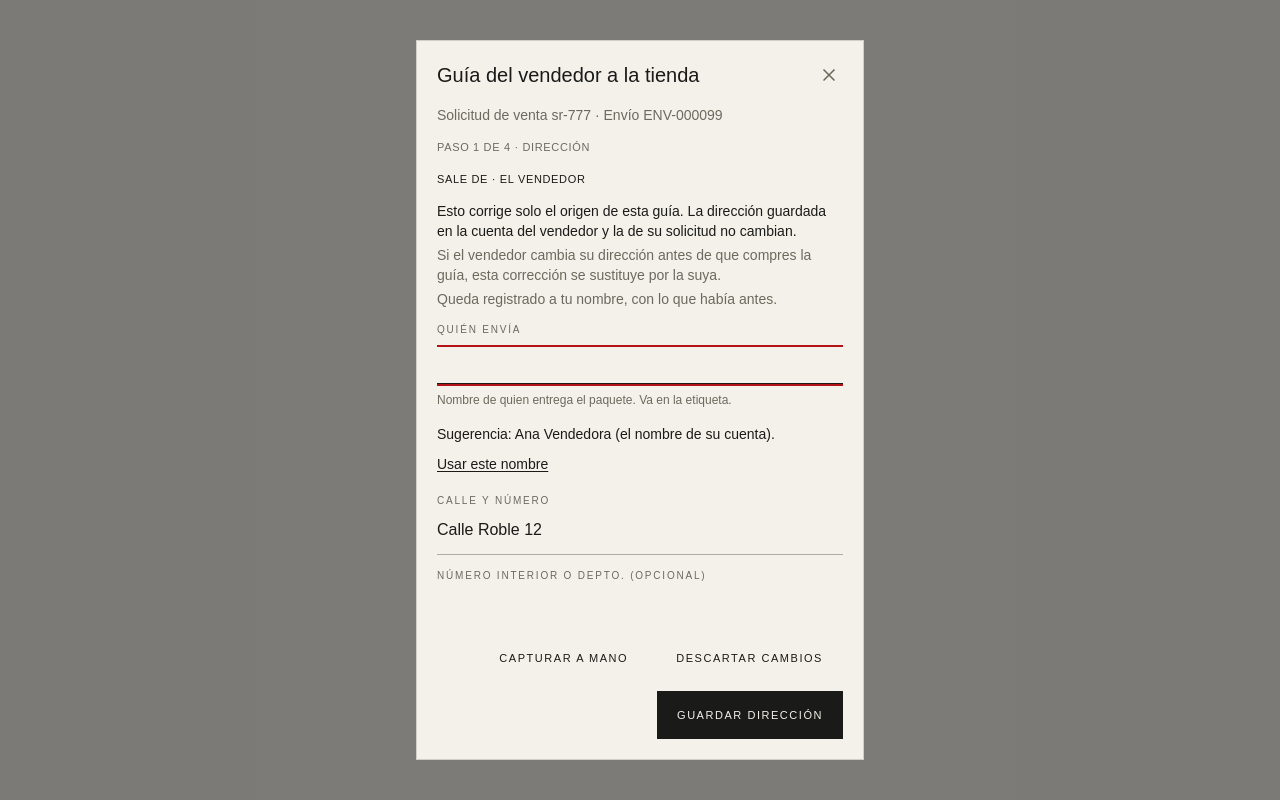
Test: UX-BSD-5 (BSD-F2) · origen editable, destino de solo lectura › `400 VALIDATION_ERROR {field:recipientName}` ⇒ «Escribe quién envía.»
Expected: the field labelled "Quién envía" is shown, [437,347,843,371]
Click the button "Guardar dirección" at (750, 715), box [657,690,843,739]
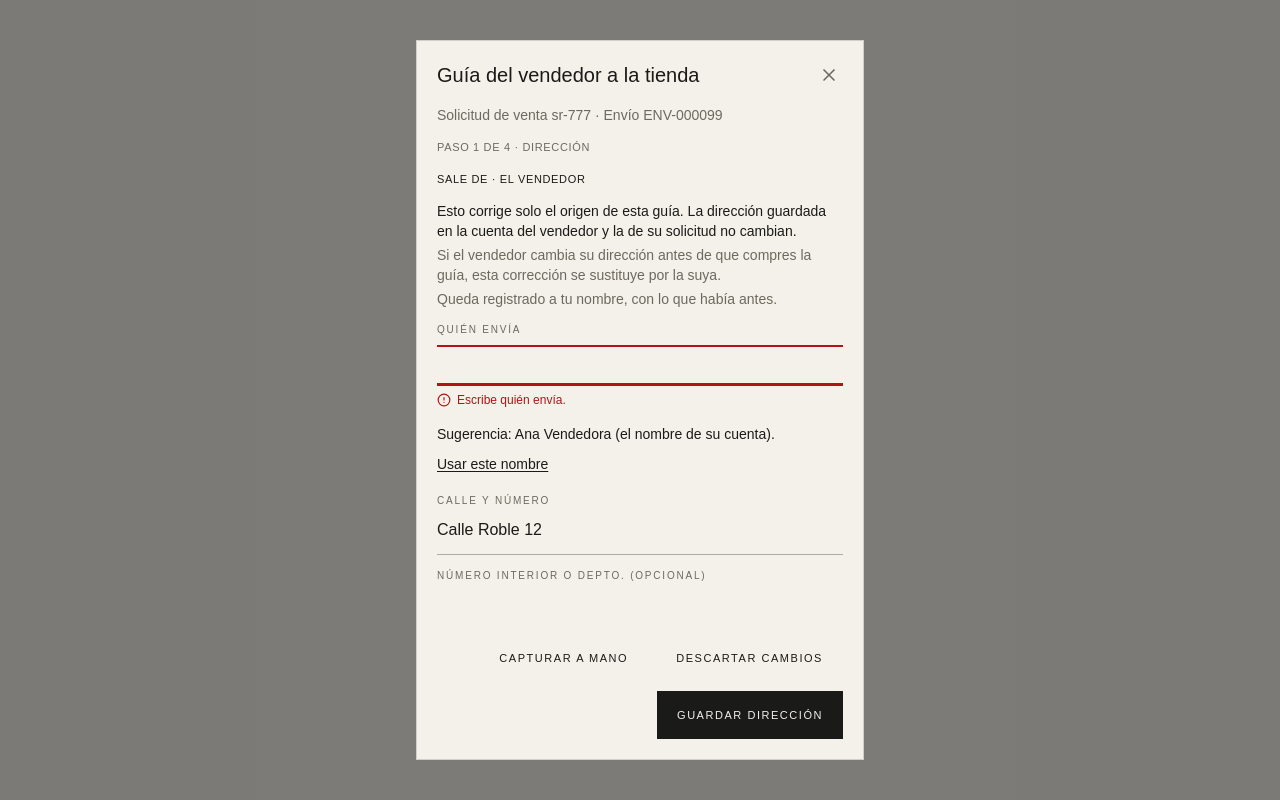
Now the text "Escribe quién envía." is shown, box [437,393,566,407]
